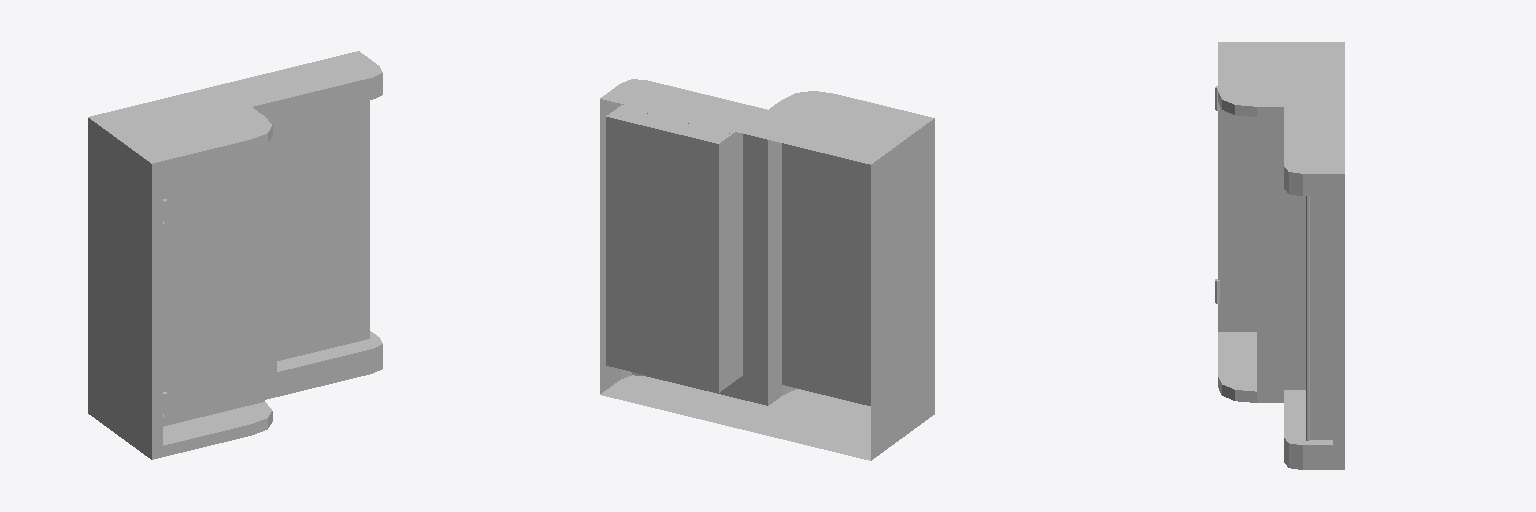
Rendered from piano_a.obj.
3 views of the same model, side by side, from view 1: azimuth 30°, elevation 25°; view 2: azimuth 150°, elevation 25°; view 3: azimuth 270°, elevation 25° (orthographic).
Parts seen in each view (by area): view 1: piano_a; view 2: piano_a; view 3: piano_a.
Part boxes in pixels (left/top/right/bottom): piano_a: left=88, top=51, right=382, bottom=459; piano_a: left=600, top=79, right=934, bottom=460; piano_a: left=1215, top=42, right=1344, bottom=469.
Bounding box in the file's own units: 7.98 × 8.33 × 3.33.